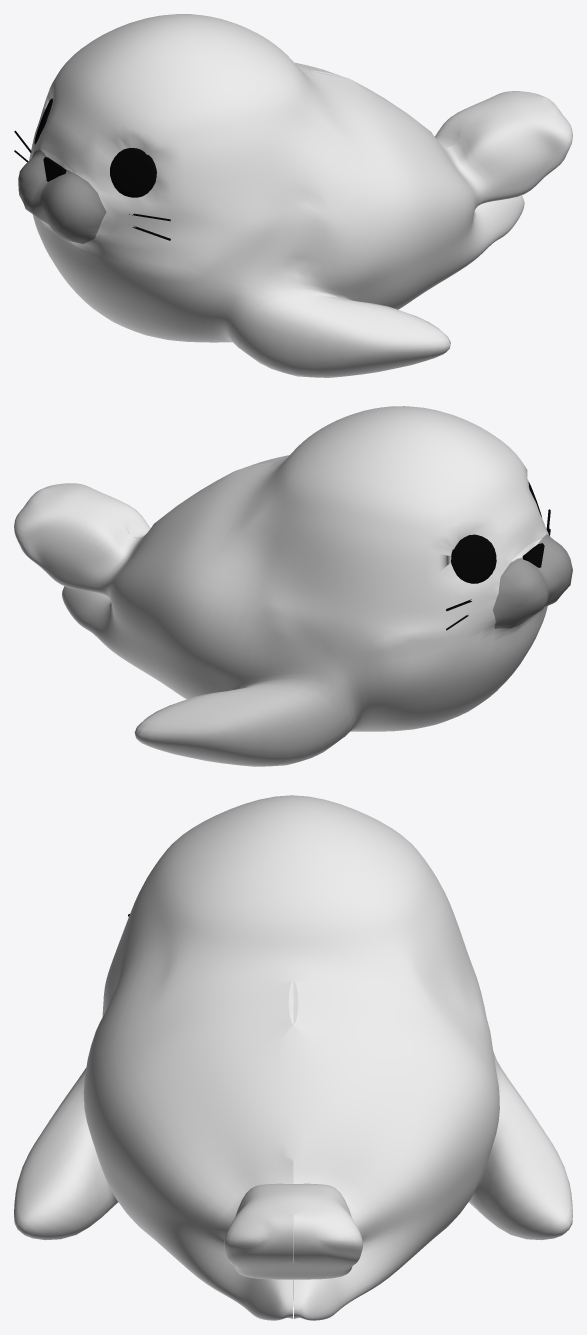
Rendered from SealModel2.fbx.
3 renders of one model, top to bottom at view 1: azimuth 30°, elevation 25°; view 2: azimuth 150°, elevation 25°; view 3: azimuth 270°, elevation 25°, orthographic. The views are drawn at different scales.
Visible parts, largest first — view 1: Seal; view 2: Seal; view 3: Seal.
Boxes of the visible parts, left/top/right/bottom form: Seal: left=14, top=14, right=572, bottom=377; Seal: left=14, top=406, right=572, bottom=766; Seal: left=14, top=795, right=572, bottom=1320.
Size of the model in its own units: 382 by 216 by 297.
4 materials, 1 textured.
